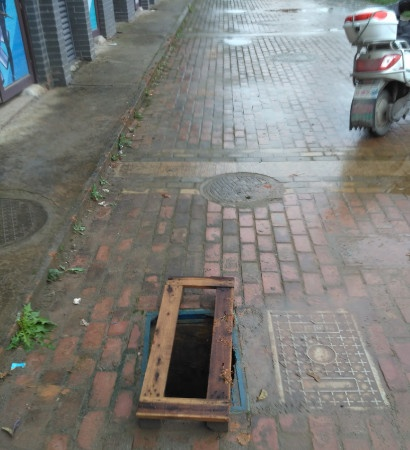well: (135, 277, 245, 414), (201, 172, 282, 203)
